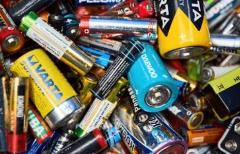electronic: (9, 4, 107, 86)
